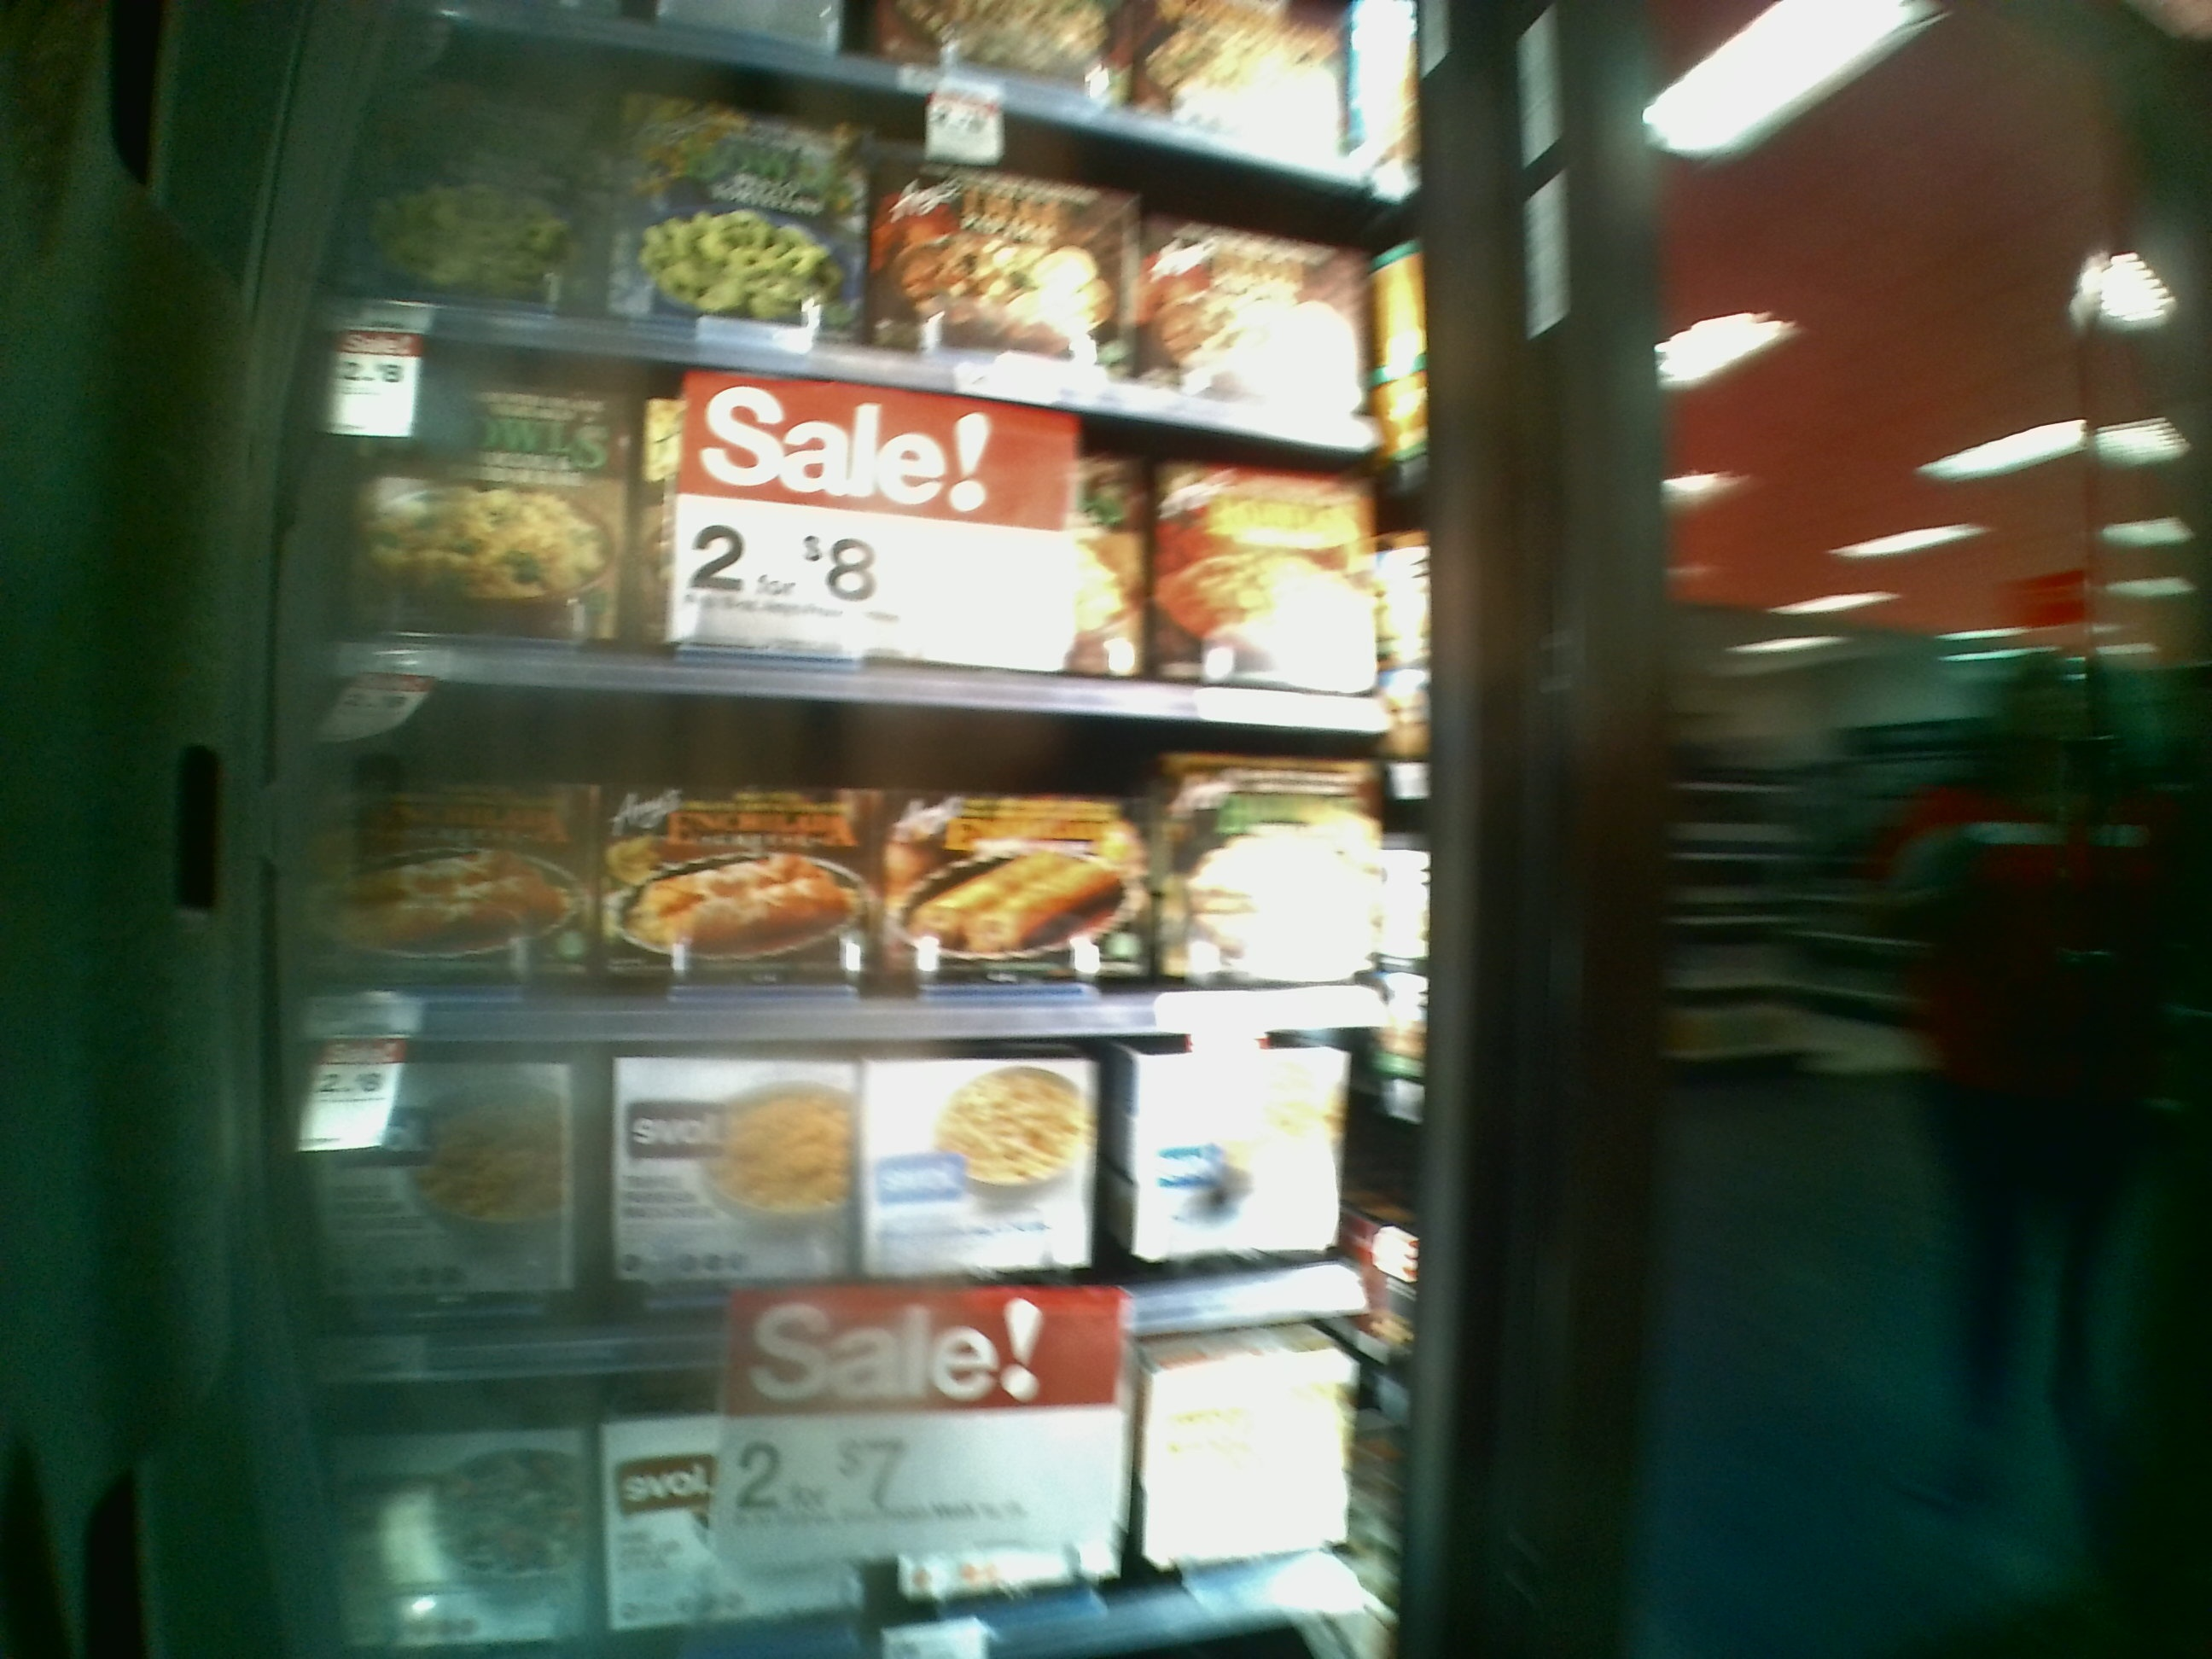shelf: (301, 1039, 1423, 1378), (294, 706, 1439, 1039), (300, 378, 1402, 709)
